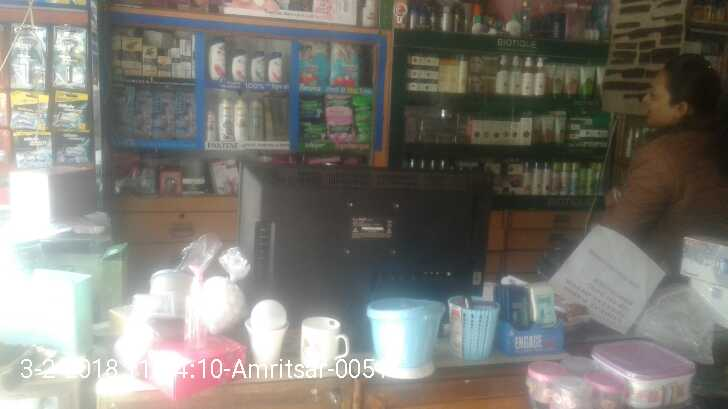gillete: (12, 20, 48, 94), (52, 19, 83, 92), (11, 135, 53, 173), (54, 95, 93, 131), (8, 96, 50, 129), (53, 138, 92, 166)
venus: (112, 85, 134, 136), (151, 94, 174, 139), (175, 90, 194, 138), (134, 92, 151, 136)
